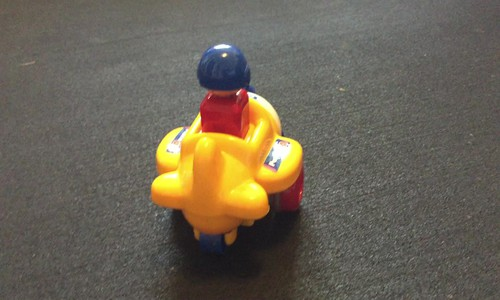toy: (153, 39, 310, 254)
